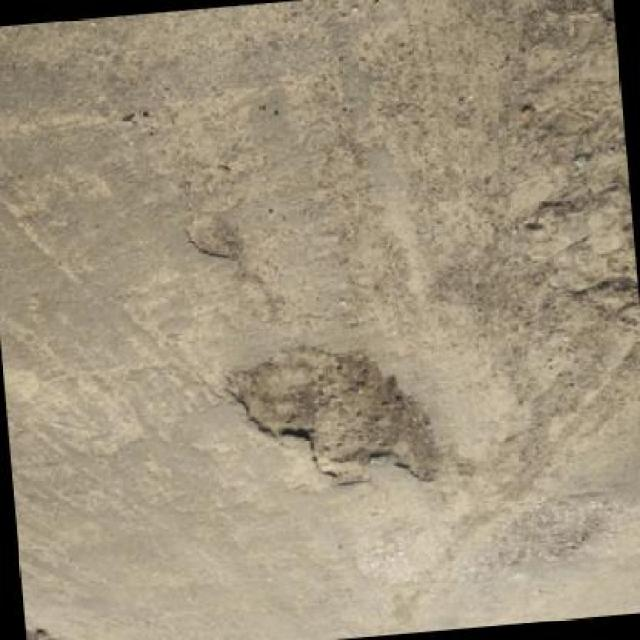pothole: (216, 332, 447, 503), (181, 209, 244, 268)
